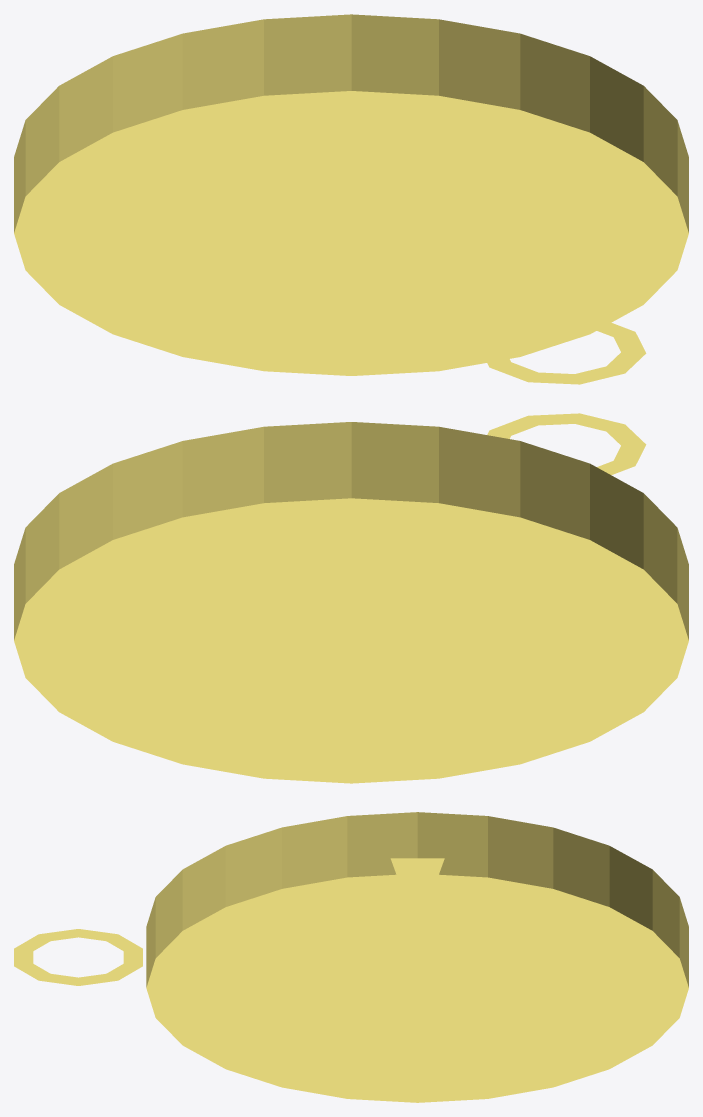
Rendered from broken_watch.glb.
3 renders of one model, top to bottom at view 1: azimuth 30°, elevation 25°; view 2: azimuth 150°, elevation 25°; view 3: azimuth 270°, elevation 25°, orthographic. The views are drawn at different scales.
Parts seen in each view (by area): view 1: ClueModel; view 2: ClueModel; view 3: ClueModel.
Boxes of the visible parts, x1,y1,x2,y2 form: ClueModel: (14,14,688,384); ClueModel: (14,413,688,783); ClueModel: (14,812,688,1102).
Bounding box in the file's own units: 0.08 × 0.01 × 0.0995.
